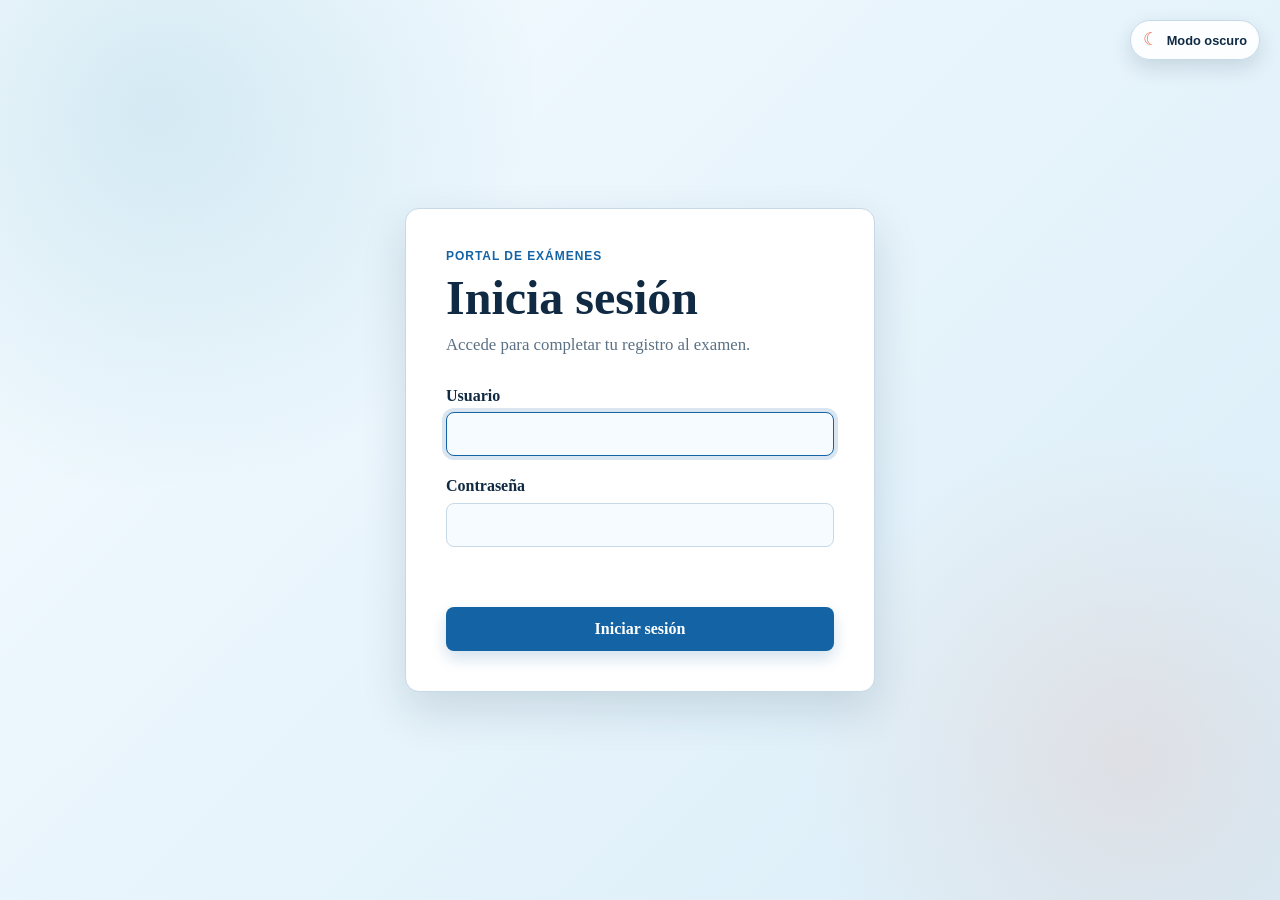
Scenario: App › muestra un error cuando las credenciales no son correctas
The image size is (1280, 900).
Type "incorrecto" into the field labelled "Usuario" at (640, 434), box top-left (446, 412), bottom-right (834, 456)
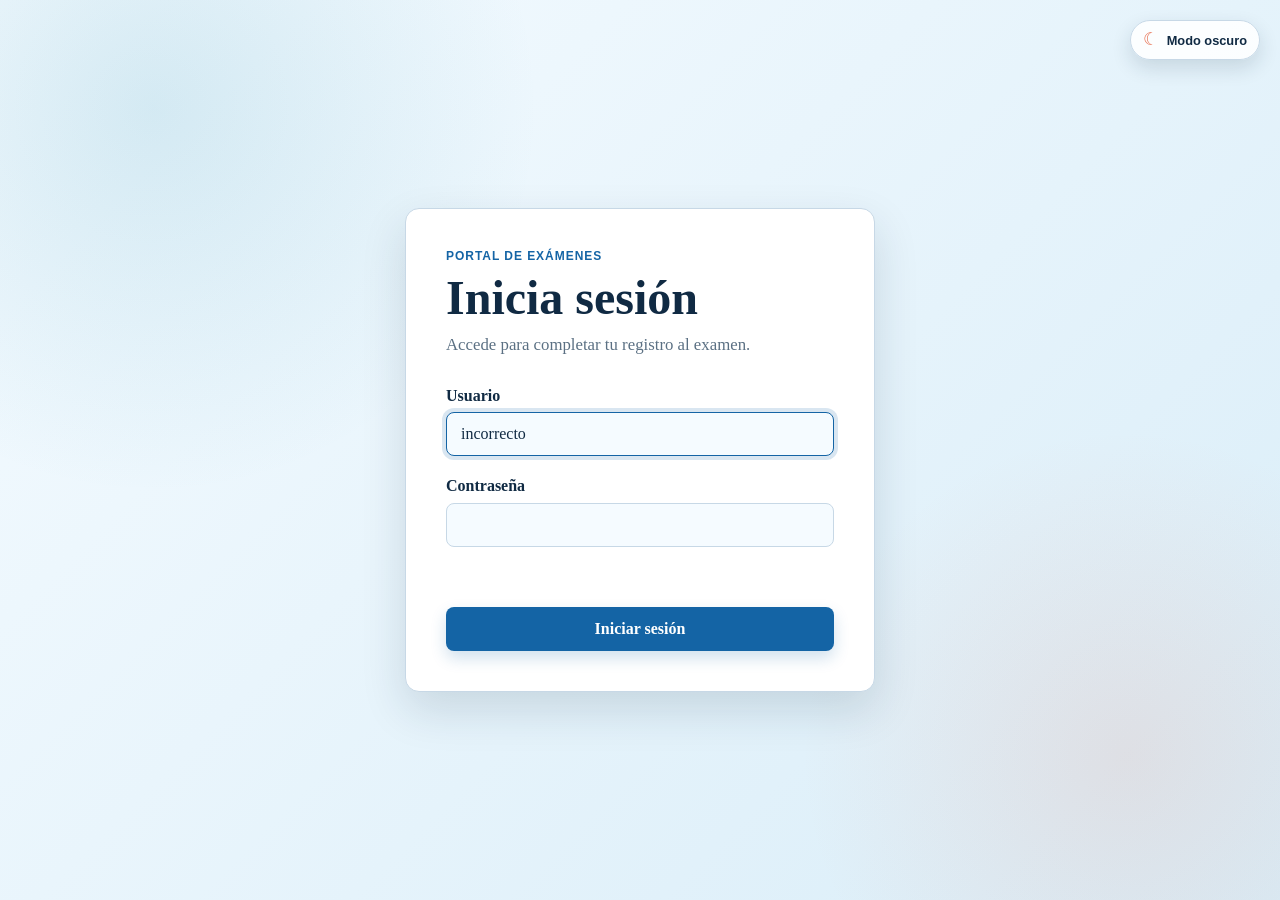
Type "incorrecta" into the password field labelled "Contraseña" at (640, 525), box top-left (446, 503), bottom-right (834, 547)
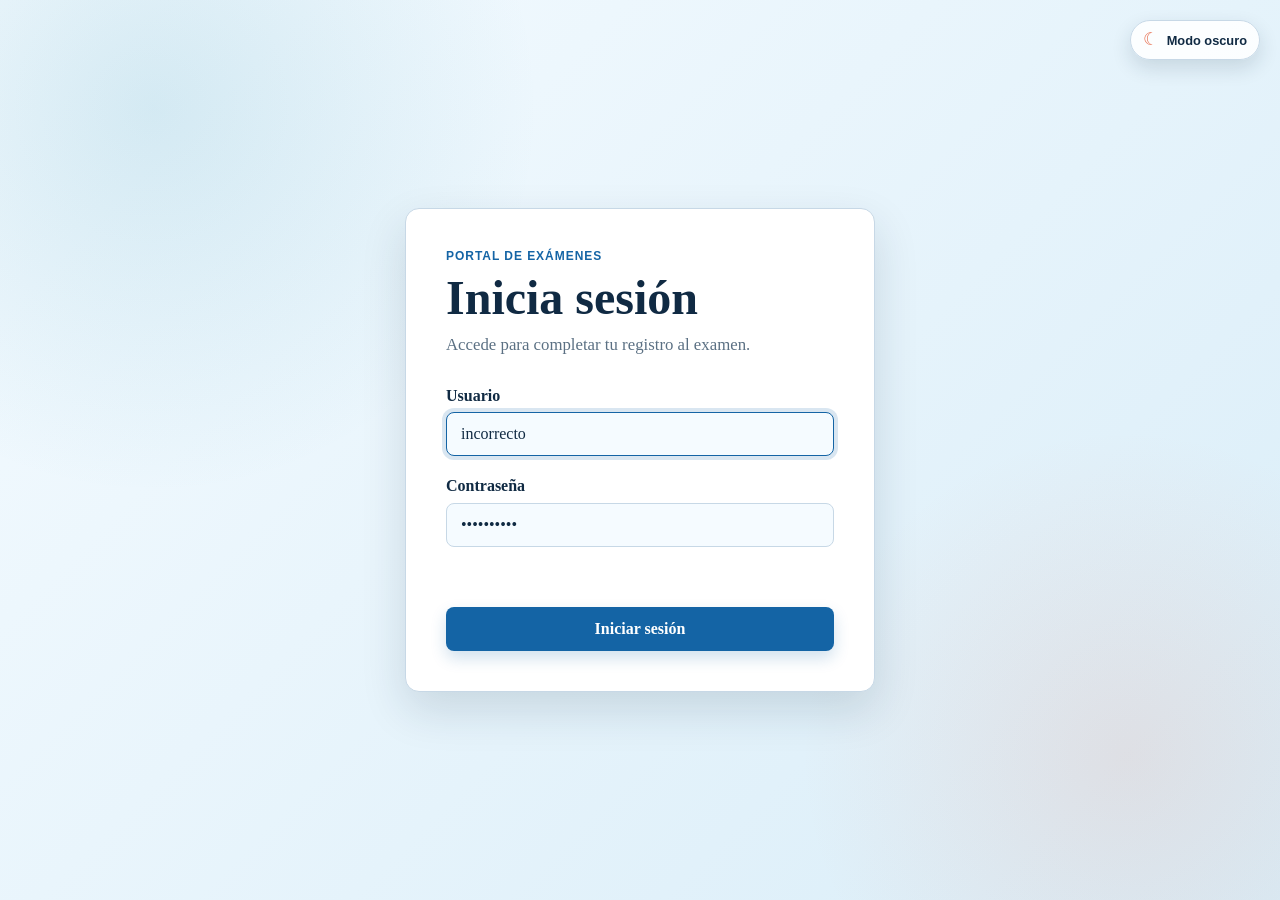
Click the button "Iniciar sesión" at (640, 629), box top-left (446, 607), bottom-right (834, 651)
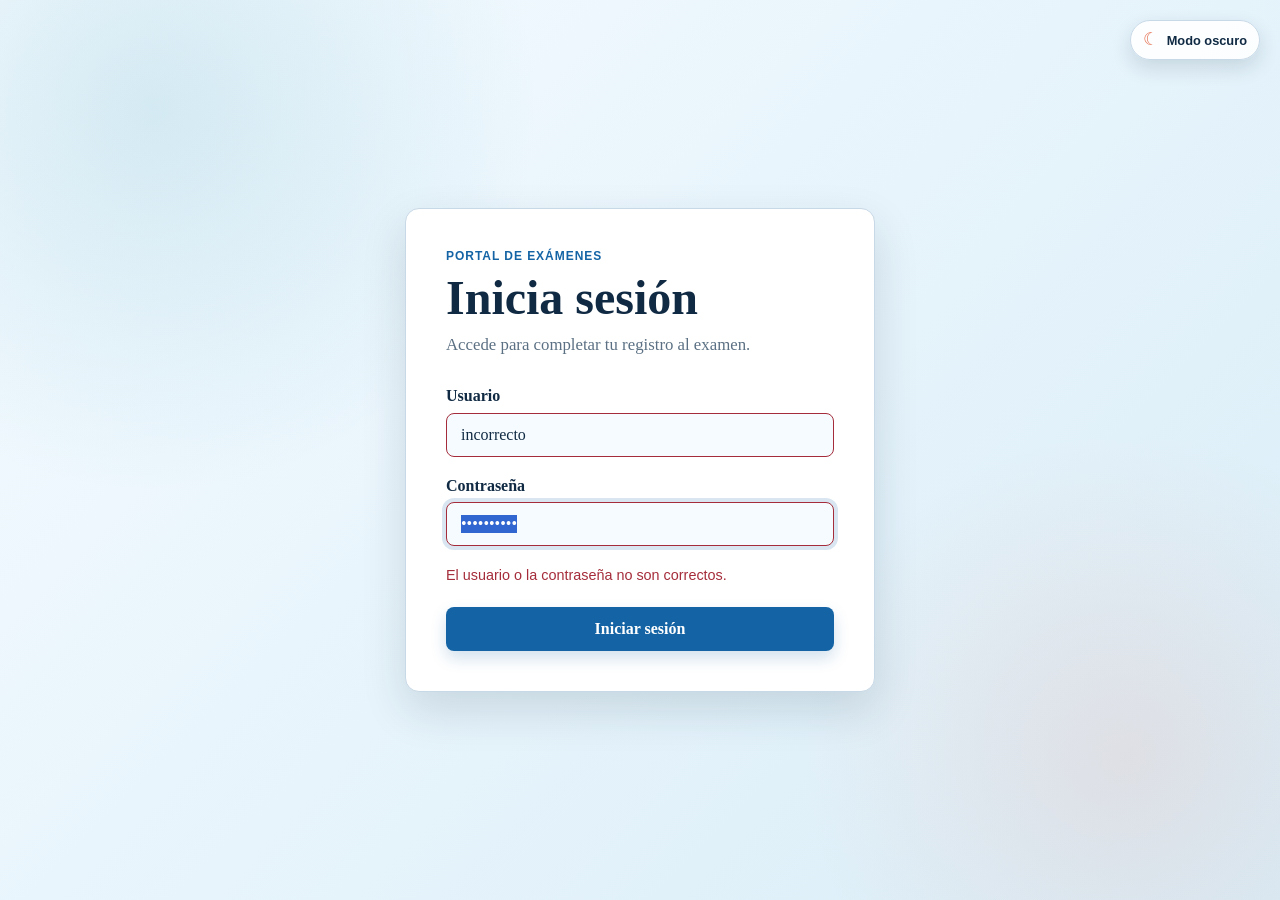
Expected: the heading "Inicia sesión" is shown, top-left (446, 271), bottom-right (698, 324)
Expected: the message reads "El usuario o la contraseña no son correctos.", top-left (446, 567), bottom-right (727, 583)
